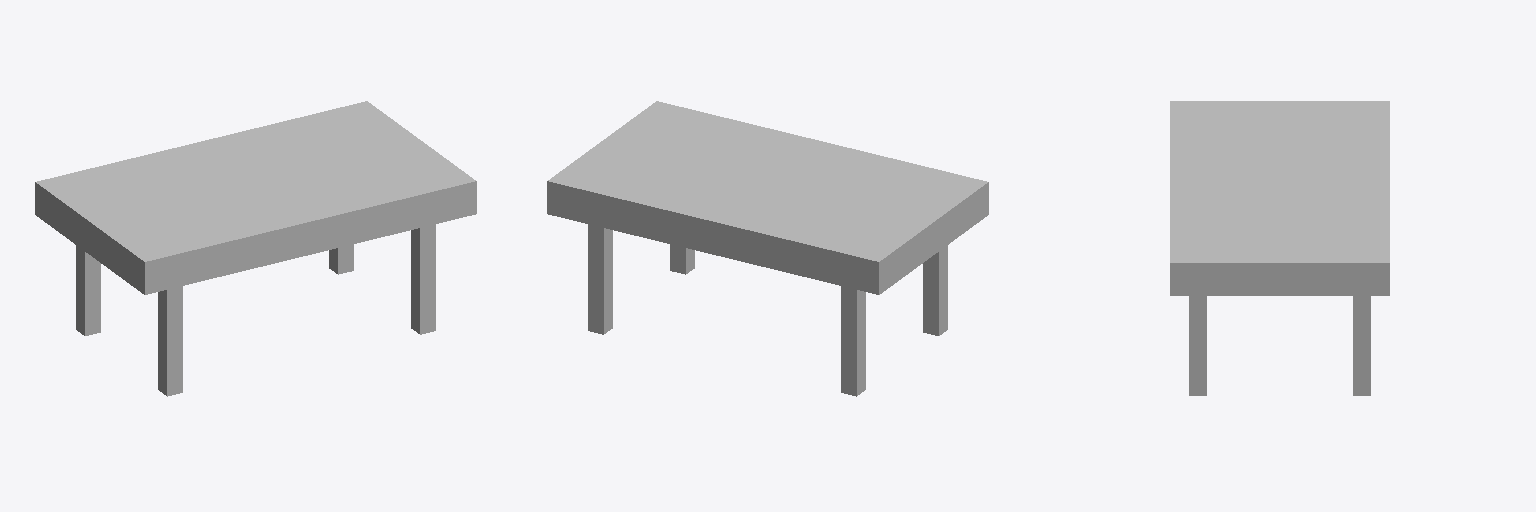
The model's file is Table.obj.
The picture shows the model from 3 angles: view 1: azimuth 30°, elevation 25°; view 2: azimuth 150°, elevation 25°; view 3: azimuth 270°, elevation 25°; orthographic projection.
Visible parts, largest first — view 1: object 1; view 2: object 1; view 3: object 1.
Part boxes in pixels (left/top/right/bottom): object 1: left=35, top=101, right=476, bottom=396; object 1: left=547, top=101, right=988, bottom=396; object 1: left=1170, top=101, right=1389, bottom=395.
Bounding box in the file's own units: 2.1 × 0.9 × 1.2.